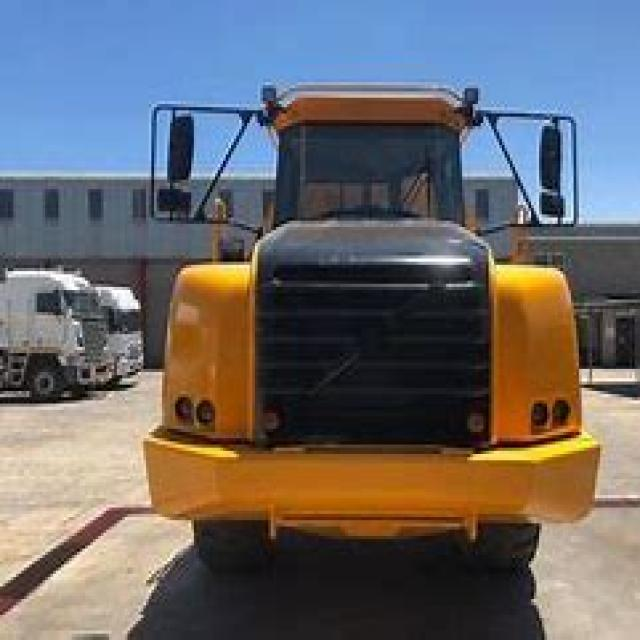dump_truck: (125, 63, 600, 577)
